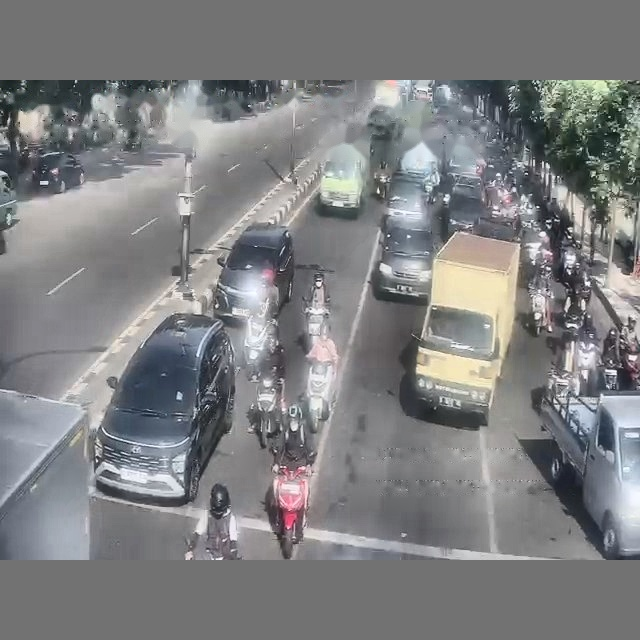Mobil: (93, 313, 235, 501), (213, 223, 294, 319), (372, 220, 439, 299), (441, 188, 487, 236), (384, 172, 429, 219), (32, 152, 84, 192), (367, 105, 402, 138), (472, 218, 519, 242), (0, 170, 17, 230), (452, 173, 485, 202), (451, 182, 484, 203), (413, 80, 432, 101)
Motor: (274, 466, 310, 558), (253, 371, 281, 449), (243, 315, 274, 381), (305, 361, 333, 433), (575, 340, 598, 394), (304, 300, 329, 349), (529, 288, 547, 336), (602, 356, 619, 390), (374, 174, 390, 200)
Truk: (413, 232, 519, 424), (540, 387, 639, 559), (0, 390, 89, 559), (319, 143, 369, 215)
